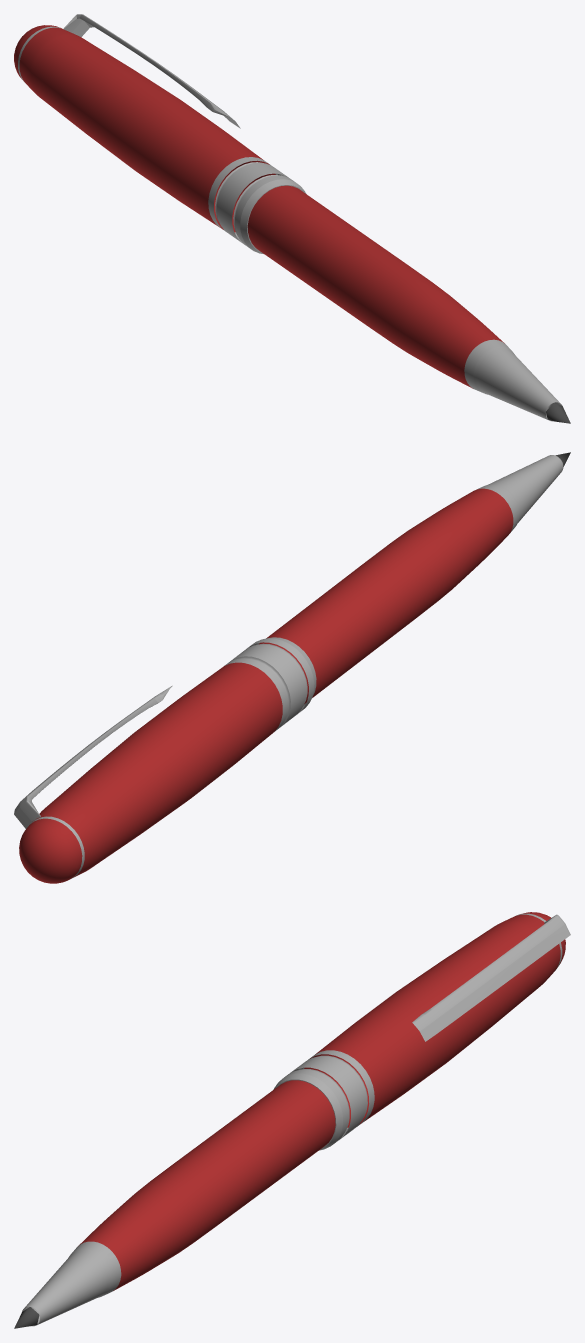
The model's file is pen.fbx.
3 views of the same model, one above another, from view 1: azimuth 30°, elevation 25°; view 2: azimuth 150°, elevation 25°; view 3: azimuth 330°, elevation 25° (orthographic). The views are drawn at different scales.
Parts seen in each view (by area): view 1: pen; view 2: pen; view 3: pen.
Boxes of the visible parts, x1,y1,x2,y2 form: pen: [14, 14, 570, 423]; pen: [14, 452, 570, 883]; pen: [14, 912, 570, 1328].
Size of the model in its own units: 0.0104 by 0.0099 by 0.1187.
